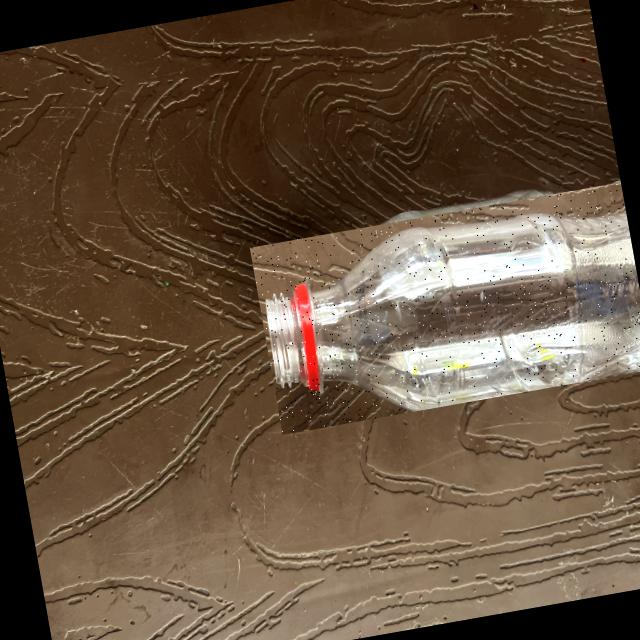PET_With_Cap: (249, 181, 640, 434)
